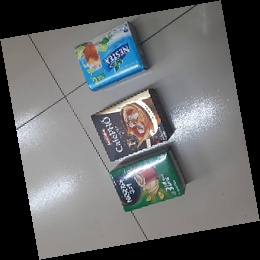CF pho: (91, 90, 174, 163)
Nes Rang: (107, 147, 188, 214)
Nestea: (74, 22, 148, 93)
